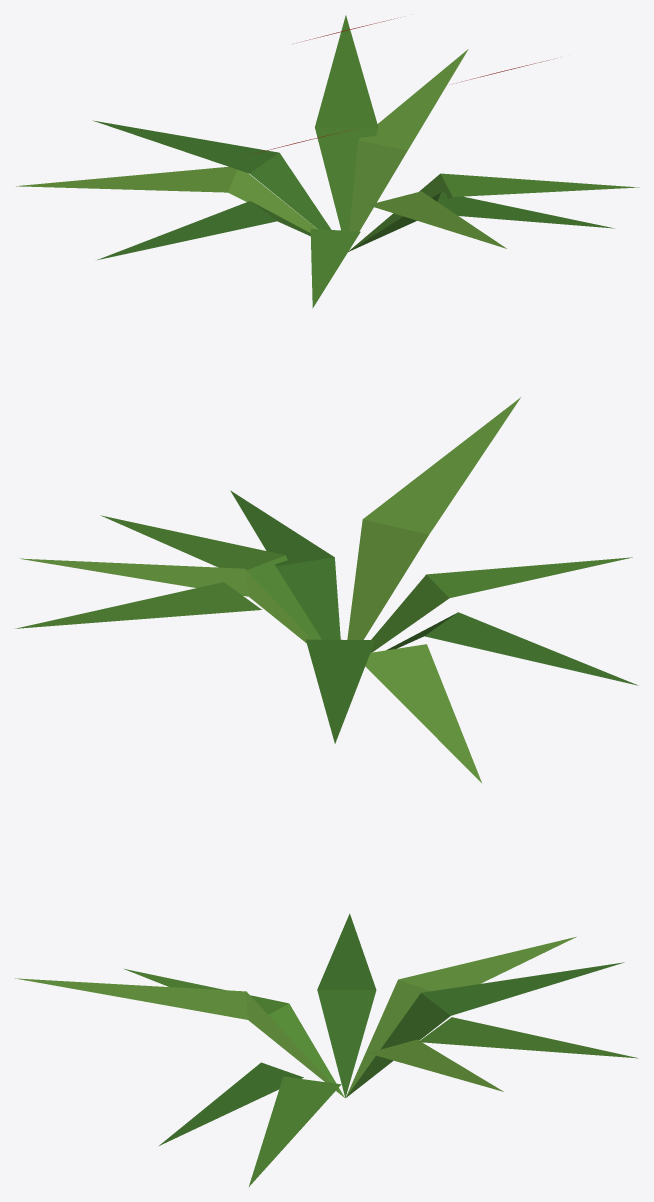
Rendered from cover-hibiscusFar.glb.
3 renders of one model, top to bottom at view 1: azimuth 30°, elevation 25°; view 2: azimuth 150°, elevation 25°; view 3: azimuth 270°, elevation 25°, orthographic. The views are drawn at different scales.
Parts seen in each view (by area): view 1: cover-hibiscusFar; view 2: cover-hibiscusFar; view 3: cover-hibiscusFar.
Boxes of the visible parts, x1,y1,x2,y2 form: cover-hibiscusFar: (16,15,639,308); cover-hibiscusFar: (15,397,638,782); cover-hibiscusFar: (15,913,638,1186).
Size of the model in its own units: 0.7492 by 0.3615 by 0.763.
